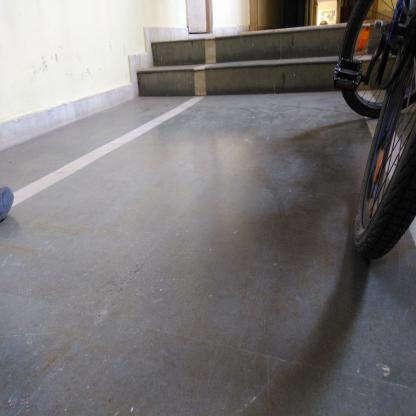stairs: (158, 35, 332, 99)
